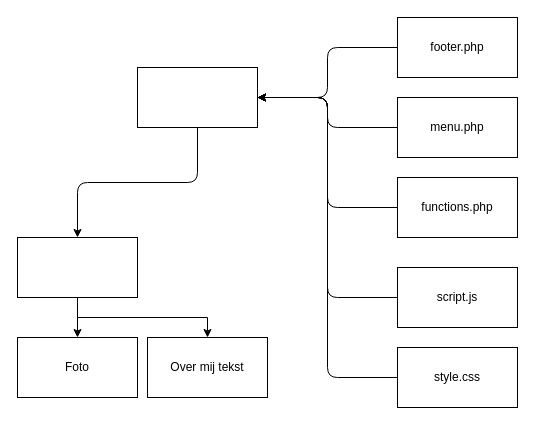
The diagram is 535 pixels wide and 425 high, and some of its shapes have lost their labels. Here are the shapes that lost their labels. From the top down, the box of each, then its label:
(136, 66, 258, 128): index.php
(16, 236, 138, 298): About
